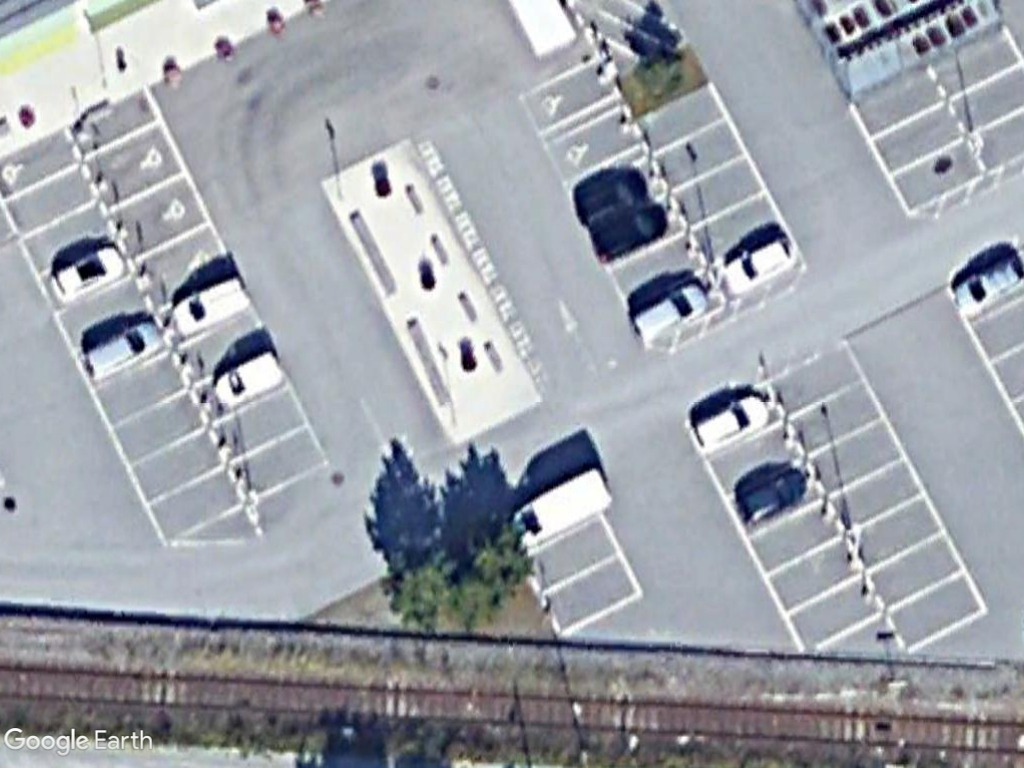car: (74, 315, 166, 382), (686, 388, 773, 458), (731, 458, 811, 533), (718, 230, 803, 299), (947, 245, 1024, 320), (47, 239, 130, 308)
van: (622, 273, 714, 351), (167, 269, 250, 343), (207, 343, 289, 414)
